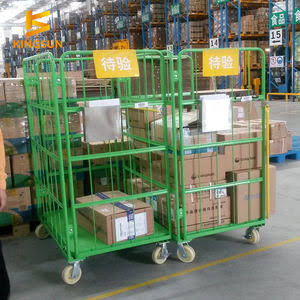Carts: (22, 47, 173, 285)
